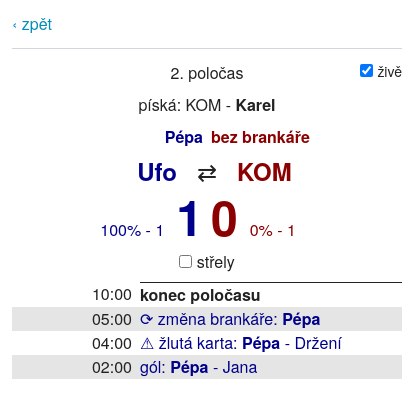
renders events, score, referee, live toggle; shots hidden until ticked
Expected: the text "gól: Pépa - Jana" is shown, [140, 355, 257, 378]
Expected: the text "⚠ žlutá karta: Pépa - Držení" is shown, [140, 331, 342, 354]
Click the checkbox labelled "střely".
click(186, 262)  # box [179, 255, 192, 268]
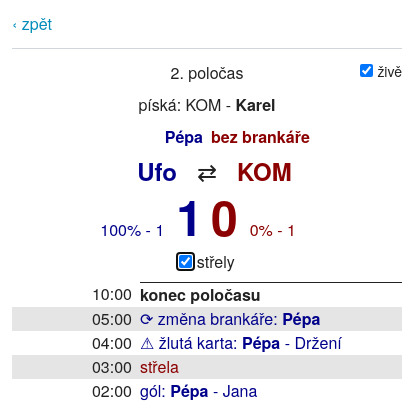
Expected: the text "střela" is shown, [140, 355, 179, 378]
